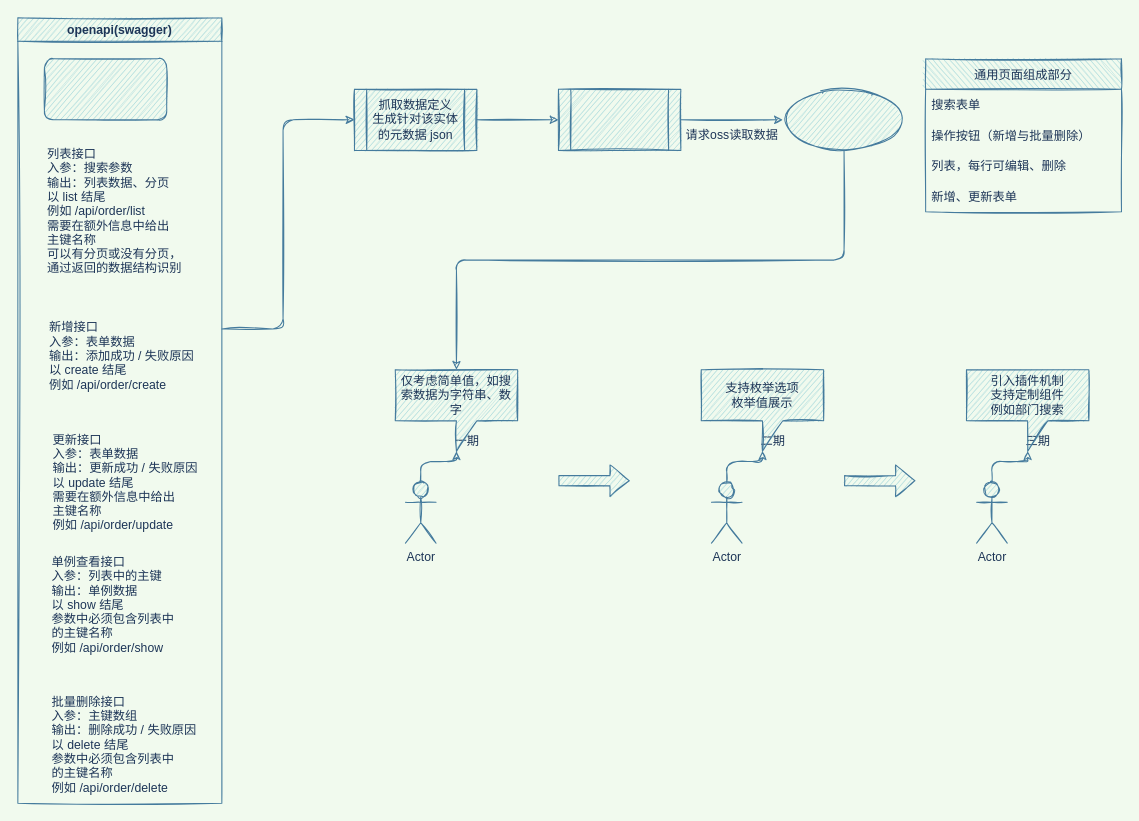
Some shapes in this 1139 by 821 pixel diagram are drawn without their labels. The centre of each missing label's shape, as x and y in pixels:
"生成前端模板 对应的数据结构 json 并上传 oss" goes at [619,119].
"通用（仅一套）页面 运行时渲染" goes at [843,119].
"首先需要一个 实体名称 例如 order" goes at [105,89].
